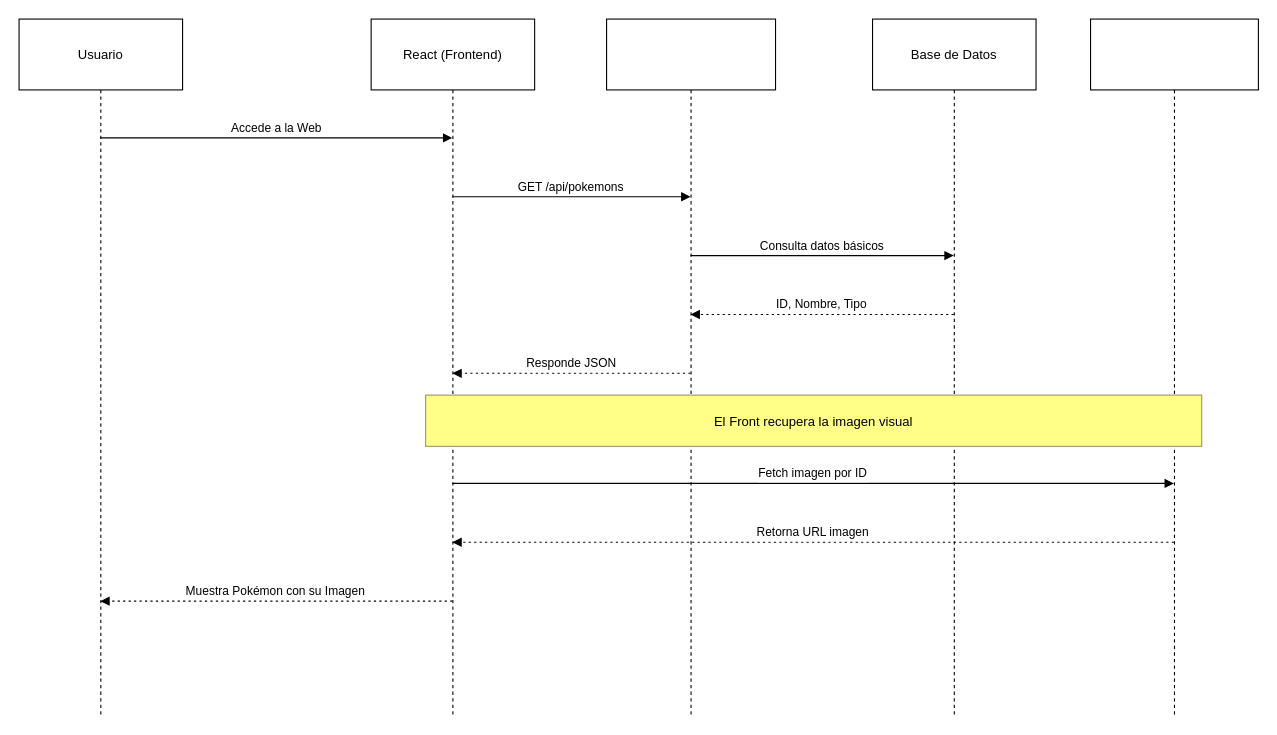
Image size: 1277x735. Some labels were removed from this diagram. Each missing label, with the centre of its shape:
Node.js (Backend): point 690,367
PokeAPI (Externa): point 1173,367
